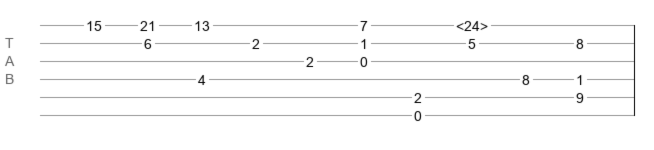0: (360, 54, 368, 64), (414, 108, 422, 118)
1: (360, 36, 368, 46), (576, 72, 584, 82)
13: (194, 18, 210, 28)
15: (86, 18, 102, 28)
2: (252, 36, 260, 46), (306, 54, 314, 64), (414, 90, 422, 100)
21: (140, 18, 156, 28)
4: (198, 72, 206, 82)
5: (468, 36, 476, 46)
6: (144, 36, 152, 46)
7: (360, 18, 368, 28)
8: (522, 72, 530, 82), (576, 36, 584, 46)
9: (576, 90, 584, 100)
harmonic: (456, 18, 488, 28)
